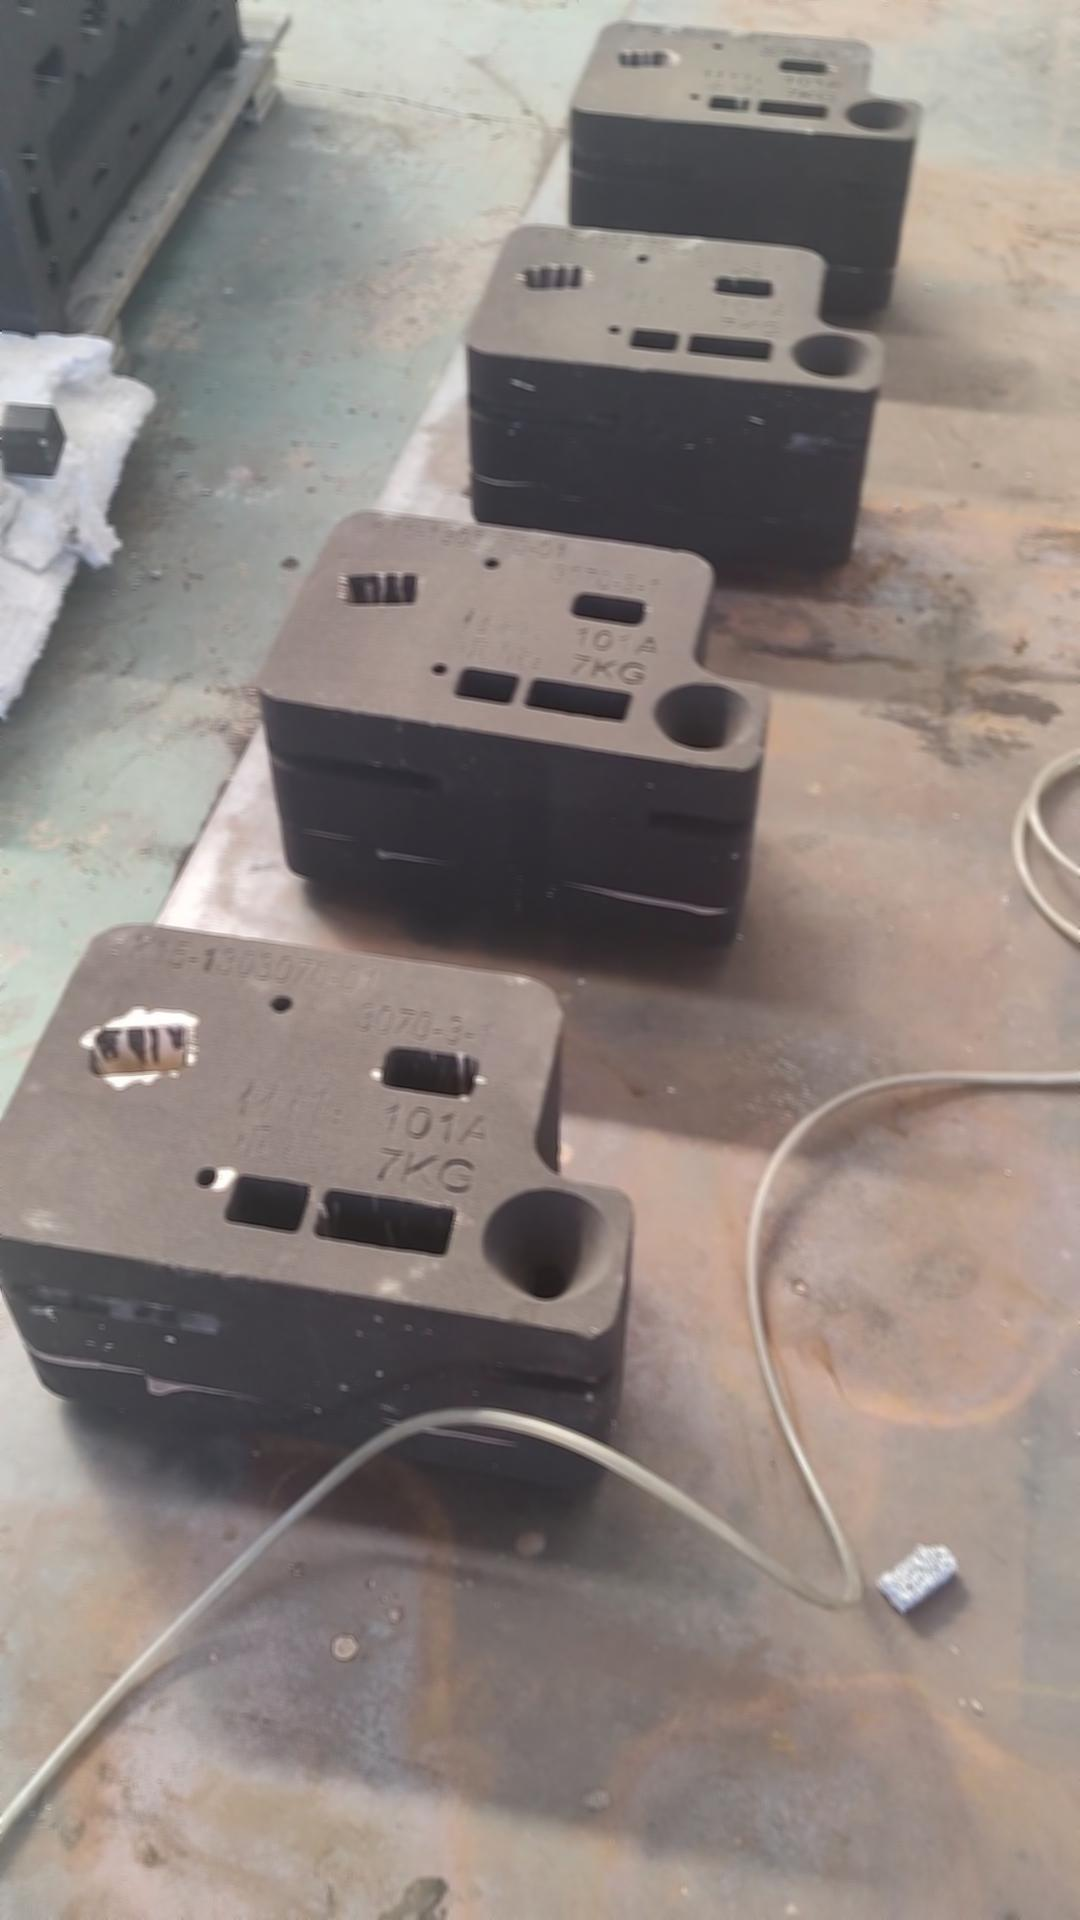pouring hole: (481, 1185, 617, 1302), (651, 683, 754, 753), (791, 334, 876, 378), (843, 99, 913, 131)
